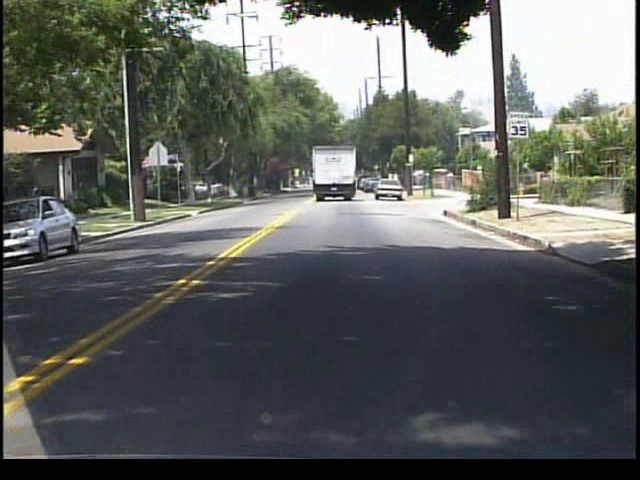person: (445, 169, 456, 192)
